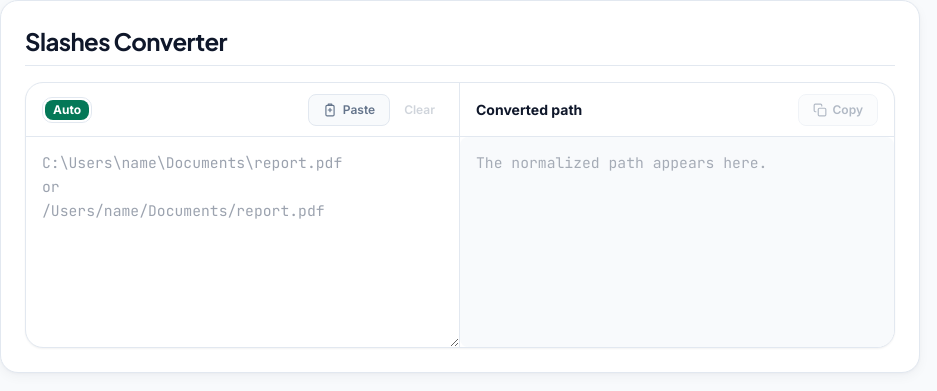
converter clipboard controls › pastes into an auto-detect converter and copies its converted result
Click the button with aria-label "Paste from clipboard" at (349, 110), box left=308, top=94, right=390, bottom=126
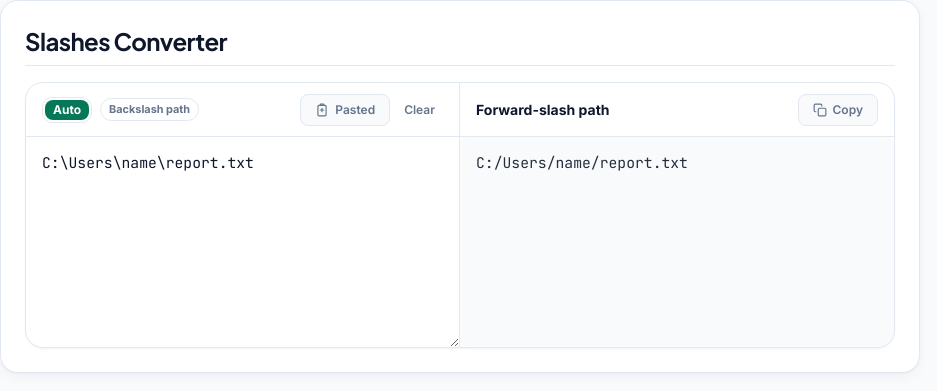
Expected: the text box named "Source input" holds "C:\\Users\\name\\report.txt", left=26, top=137, right=459, bottom=347
Expected: the button with aria-label "Paste from clipboard" reads "Pasted", left=300, top=94, right=390, bottom=126
Expected: the text box named "Converted result" holds "C:/Users/name/report.txt", left=460, top=137, right=894, bottom=347
Click the button with aria-label "Copy converted result" at (838, 110), box left=798, top=94, right=878, bottom=126
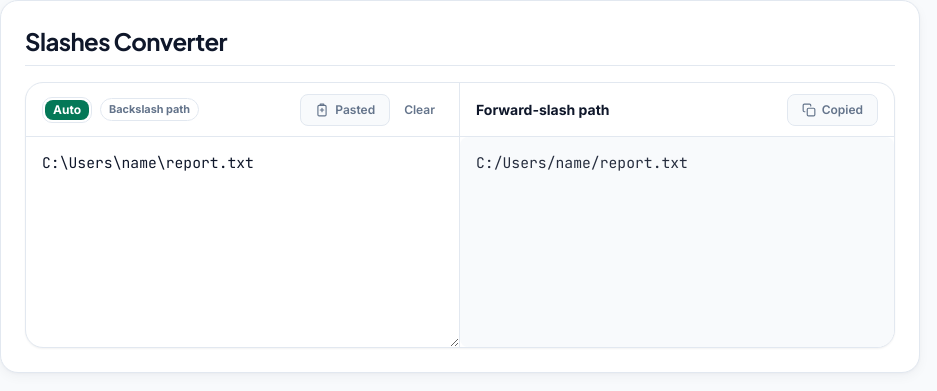
Expected: the button with aria-label "Copy converted result" reads "Copied", left=787, top=94, right=878, bottom=126
